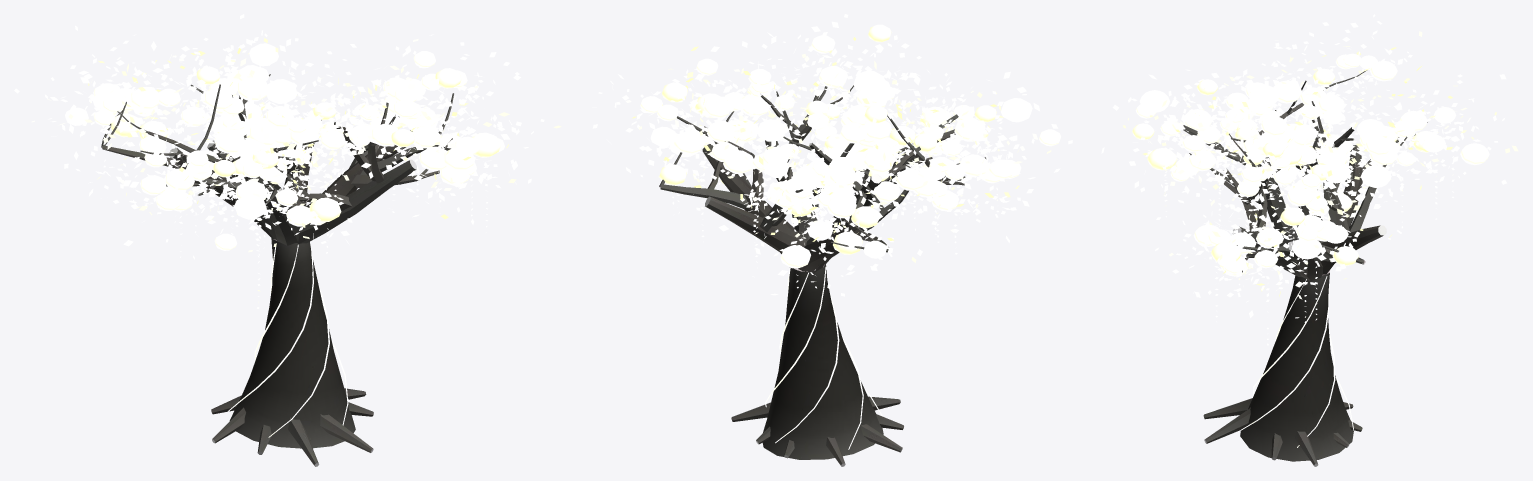
Rendered from holy_tree.glb.
The picture shows the model from 3 angles, left to right: view 1: azimuth 30°, elevation 25°; view 2: azimuth 150°, elevation 25°; view 3: azimuth 270°, elevation 25°; orthographic projection. The views are drawn at different scales.
Visible parts, largest first — view 1: glow, main; view 2: glow, main; view 3: glow, main.
Part boxes in pixels (left/top/right/bottom): glow: left=14, top=14, right=561, bottom=437; main: left=101, top=74, right=453, bottom=466; glow: left=592, top=14, right=1072, bottom=449; main: left=659, top=85, right=985, bottom=466; glow: left=1101, top=14, right=1518, bottom=447; main: left=1183, top=70, right=1428, bottom=466.
Size of the model in its own units: 35.44 by 29.55 by 30.72.
4 materials, 1 textured.
